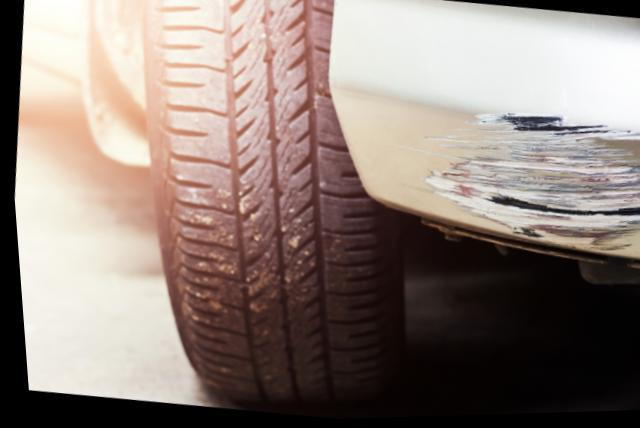scratch: (411, 107, 640, 254)
